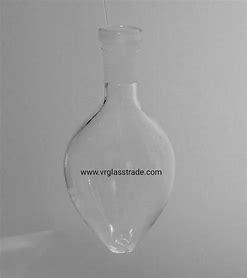Pear shaped flask: (57, 19, 178, 259)
